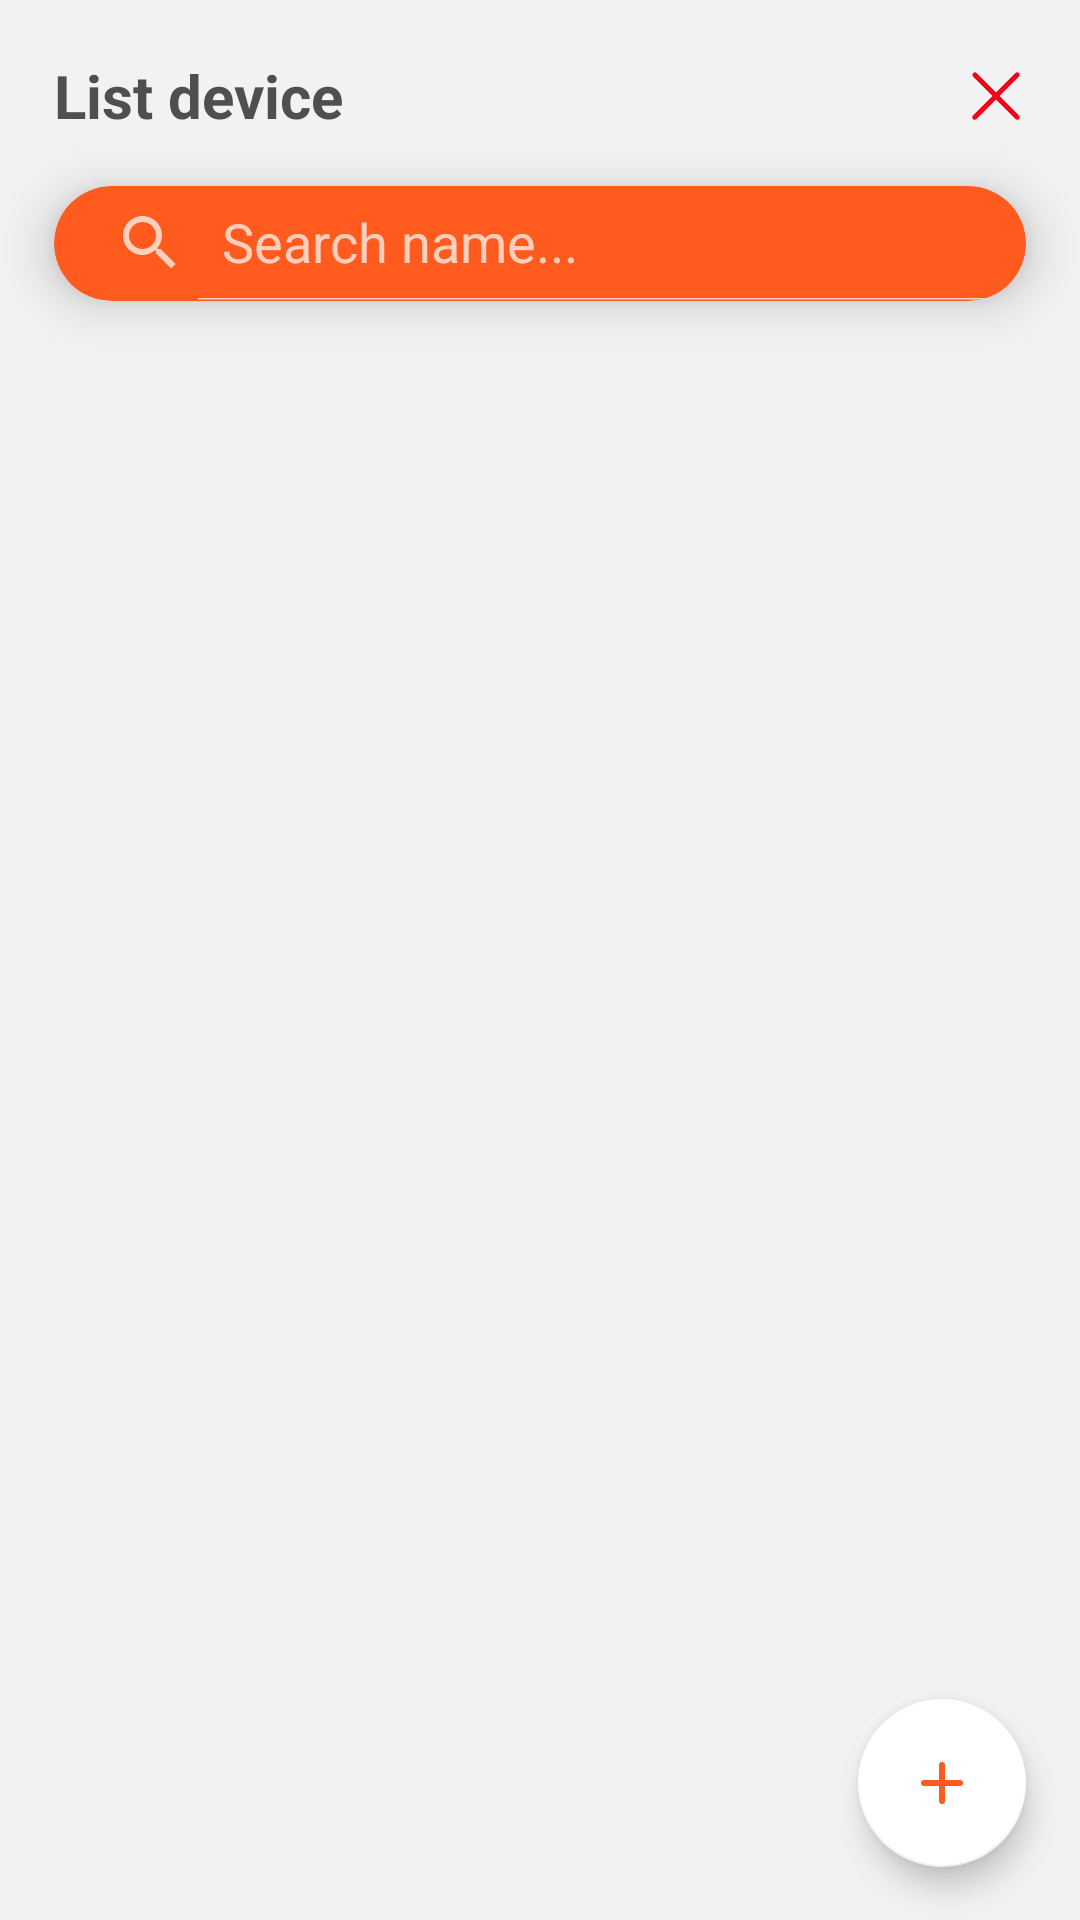

Named icons in this screenshot (1080 × 1920) and their centers, (x,y):
add: (942,1783)
close: (996,96)
